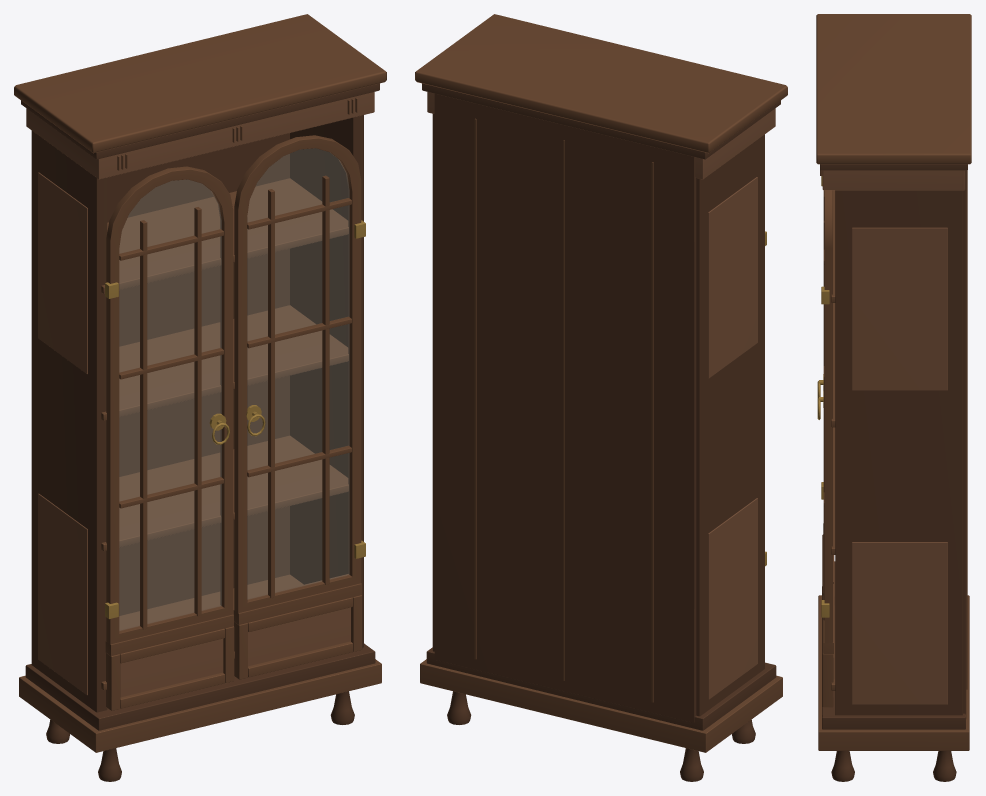
File: rpg-mansion-arched-vitrine-01.glb
3 renders of one model, left to right at view 1: azimuth 30°, elevation 25°; view 2: azimuth 150°, elevation 25°; view 3: azimuth 270°, elevation 25°, orthographic. The views are drawn at different scales.
Parts seen in each view (by area): view 1: rpg-mansion-arched-vitrine-01; view 2: rpg-mansion-arched-vitrine-01; view 3: rpg-mansion-arched-vitrine-01.
Boxes of the visible parts, x1=… form: rpg-mansion-arched-vitrine-01: x1=14, y1=14, x2=386, y2=781; rpg-mansion-arched-vitrine-01: x1=415, y1=14, x2=787, y2=781; rpg-mansion-arched-vitrine-01: x1=816, y1=14, x2=971, y2=781.
Size of the model in its own units: 0.9 by 1.9 by 0.42.
